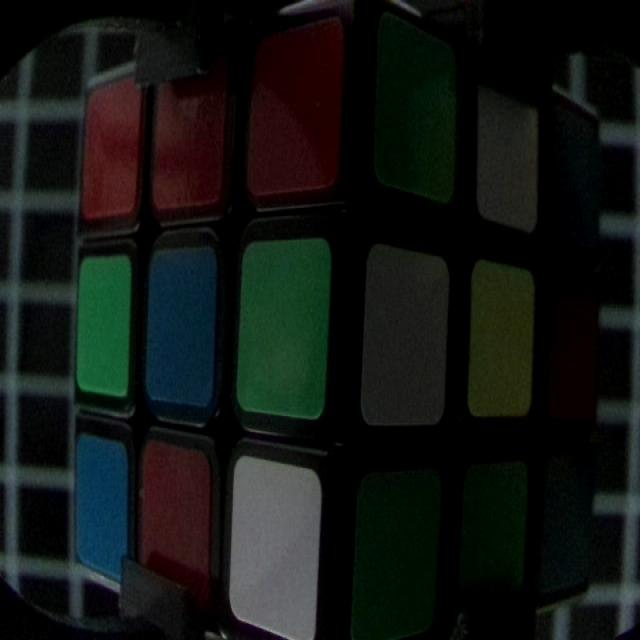b: (151, 253, 213, 399), (75, 437, 126, 576), (545, 457, 587, 583), (553, 124, 593, 239)
g: (241, 244, 326, 412), (384, 12, 457, 196), (355, 478, 436, 634), (467, 465, 525, 604), (79, 260, 126, 391)
r: (256, 31, 341, 190), (143, 448, 208, 597), (155, 69, 222, 199), (80, 88, 138, 220), (553, 289, 595, 412)
w: (231, 456, 318, 625), (367, 245, 446, 427), (476, 76, 538, 229)
y: (473, 267, 530, 413)
